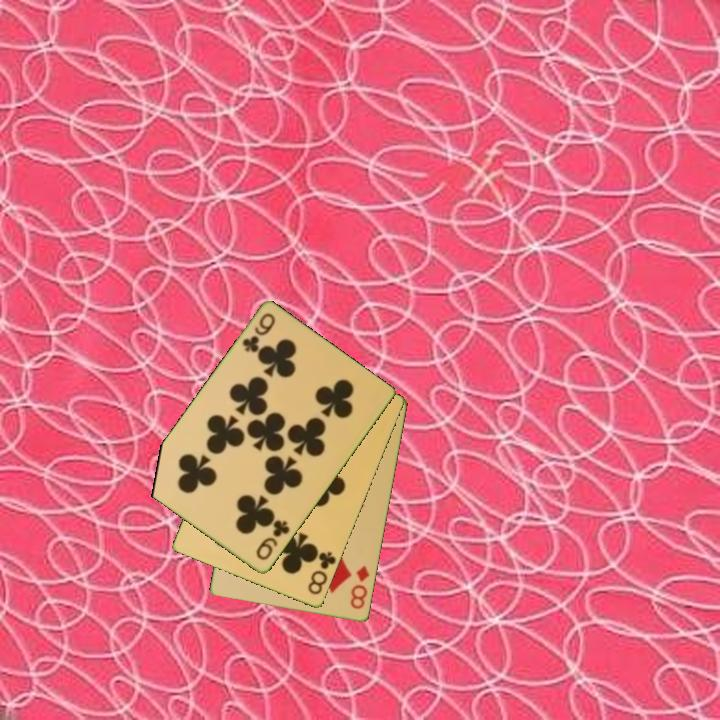8c: (304, 548, 339, 598)
8d: (347, 562, 372, 612)
9c: (252, 517, 293, 564), (239, 310, 278, 356)
